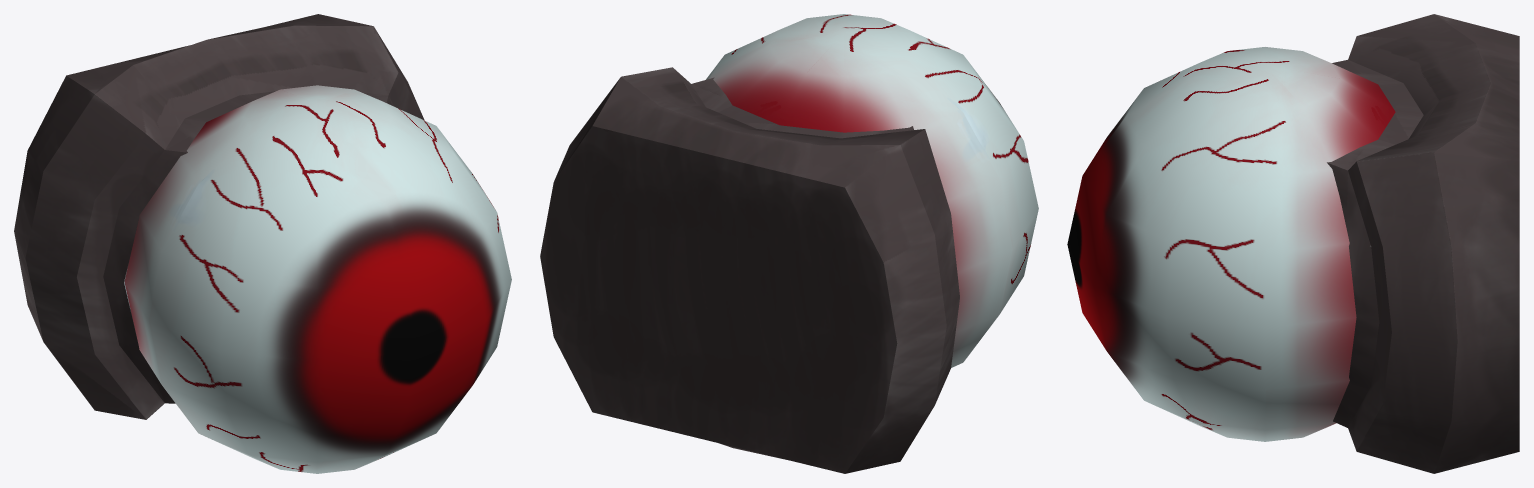
Rendered from OjoDemoniaco.fbx.
3 views of the same model, side by side, from view 1: azimuth 30°, elevation 25°; view 2: azimuth 150°, elevation 25°; view 3: azimuth 270°, elevation 25° (orthographic).
Visible parts, largest first — view 1: Globo Ocular, Soporte de pared; view 2: Soporte de pared, Globo Ocular; view 3: Globo Ocular, Soporte de pared.
Boxes of the visible parts, left/top/right/bottom form: Globo Ocular: left=124, top=85, right=511, bottom=473; Soporte de pared: left=14, top=14, right=424, bottom=419; Soporte de pared: left=540, top=67, right=959, bottom=473; Globo Ocular: left=706, top=14, right=1038, bottom=367; Globo Ocular: left=1067, top=47, right=1395, bottom=441; Soporte de pared: left=1327, top=14, right=1519, bottom=473.
Size of the model in its own units: 234 by 200 by 229.
